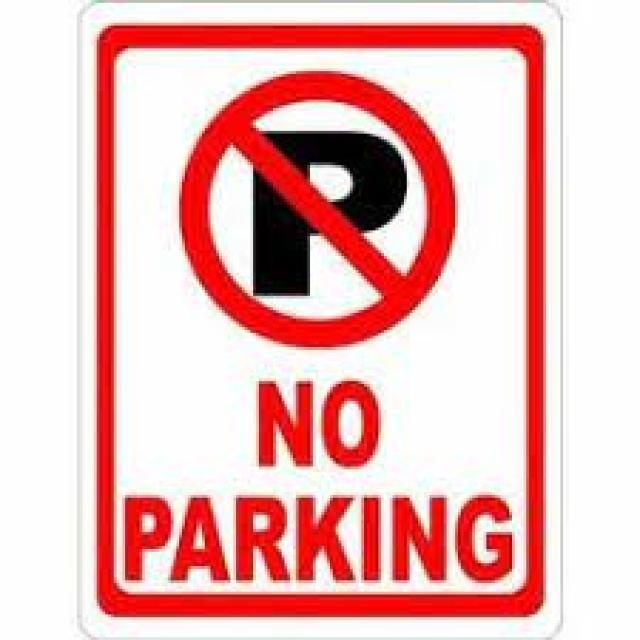no parking: (176, 66, 462, 354)
